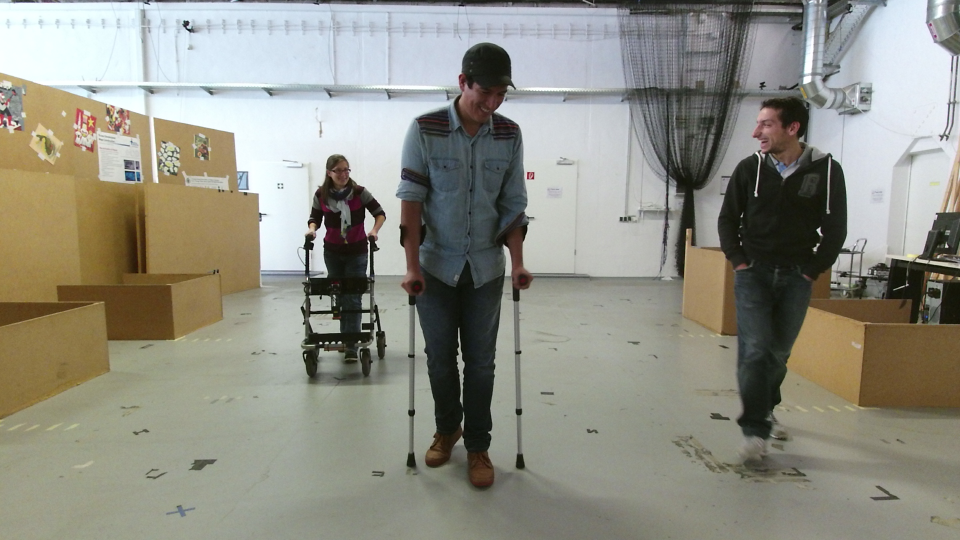crutches: (387, 43, 544, 489)
